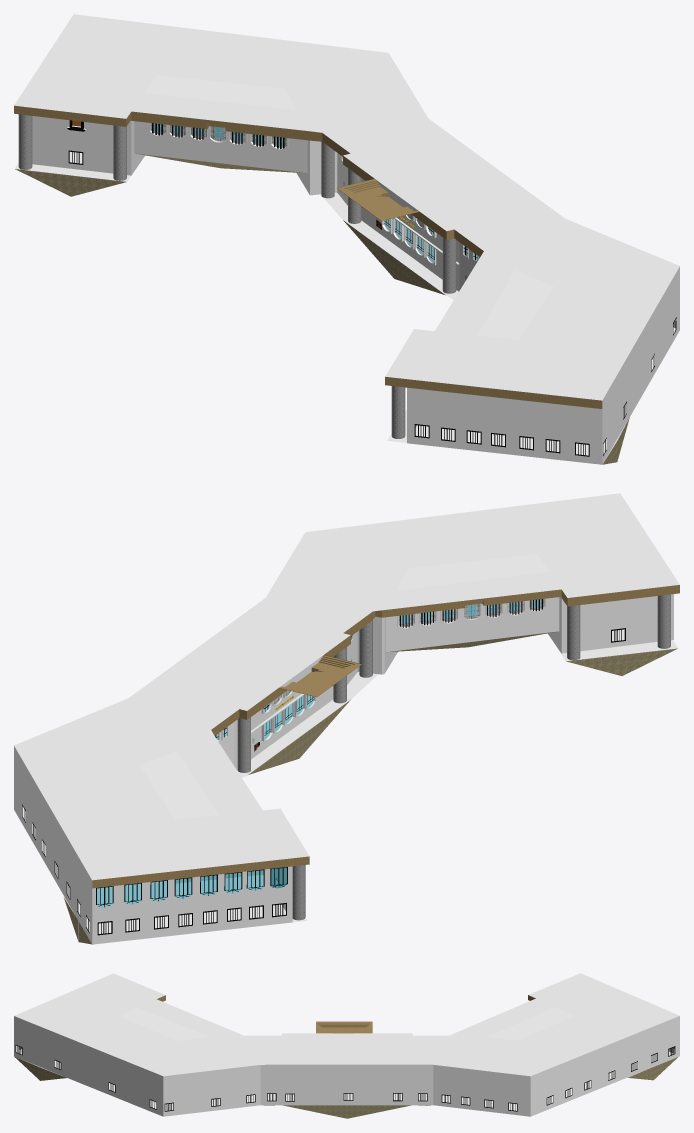
Rendered from museumpos.glb.
3 views of the same model, one above another, from view 1: azimuth 30°, elevation 25°; view 2: azimuth 150°, elevation 25°; view 3: azimuth 270°, elevation 25° (orthographic). The views are drawn at different scales.
Parts seen in each view (by area): view 1: Object_7, Object_11, Object_2, Object_14, Object_13, Object_3, Object_9, Object_5; view 2: Object_7, Object_11, Object_2, Object_14, Object_9, Object_13, Object_8, Object_3, Object_5; view 3: Object_7, Object_11, Object_13, Object_3, Object_2.
Part boxes in pixels (left/top/right/bottom): Object_7: left=14, top=14, right=679, bottom=400; Object_11: left=15, top=75, right=679, bottom=464; Object_2: left=14, top=105, right=602, bottom=408; Object_14: left=18, top=114, right=456, bottom=438; Object_13: left=15, top=153, right=629, bottom=464; Object_3: left=68, top=123, right=676, bottom=456; Object_9: left=154, top=123, right=477, bottom=262; Object_5: left=150, top=123, right=467, bottom=279; Object_7: left=14, top=493, right=679, bottom=910; Object_11: left=14, top=554, right=677, bottom=944; Object_2: left=92, top=585, right=679, bottom=888; Object_14: left=237, top=594, right=670, bottom=920; Object_9: left=96, top=599, right=540, bottom=907; Object_13: left=64, top=631, right=677, bottom=944; Object_8: left=96, top=867, right=287, bottom=935; Object_3: left=22, top=599, right=625, bottom=932; Object_5: left=252, top=599, right=544, bottom=743; Object_7: left=14, top=973, right=679, bottom=1116; Object_11: left=14, top=1007, right=679, bottom=1116; Object_13: left=15, top=1057, right=677, bottom=1118; Object_3: left=15, top=1045, right=675, bottom=1111; Object_2: left=157, top=995, right=535, bottom=1033.
Bounding box in the file's own units: 82.17 × 20.05 × 224.
13 materials, 8 textured.
